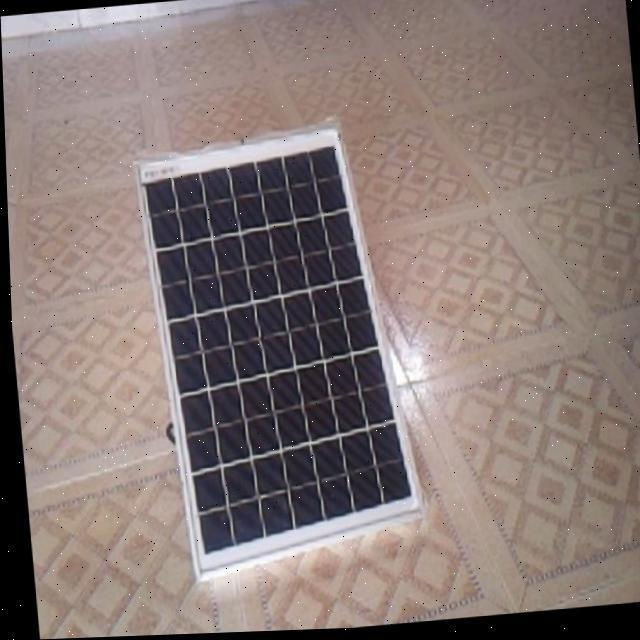Normal Solar Panel: (130, 122, 422, 582)
